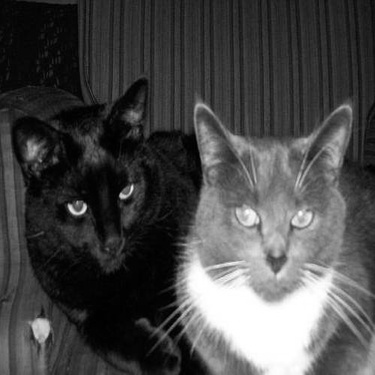cat: (12, 74, 213, 374), (176, 99, 367, 371)
